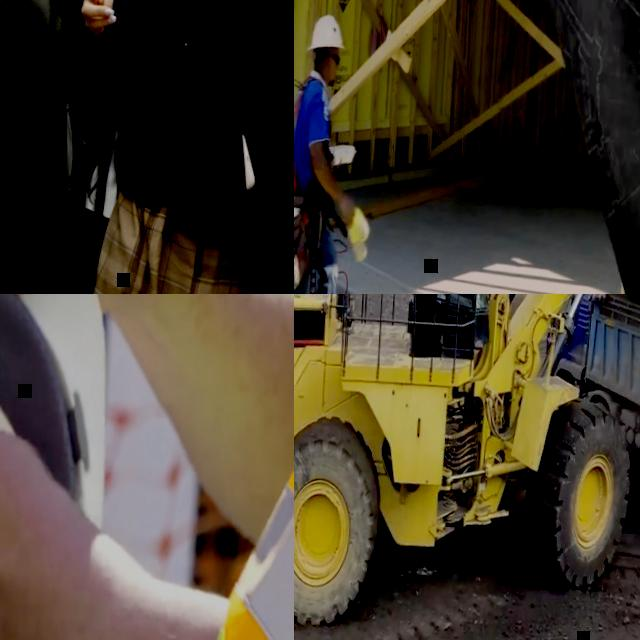helmet: (0, 294, 119, 640), (308, 14, 350, 57)
machinery: (294, 294, 640, 640), (542, 294, 640, 533)
no_mask: (325, 64, 337, 84)
no_vest: (118, 0, 294, 242), (0, 0, 104, 220), (294, 77, 331, 195)
person: (0, 294, 294, 640), (56, 0, 294, 294), (0, 0, 124, 294), (294, 13, 366, 294)
vest: (205, 294, 294, 640)
